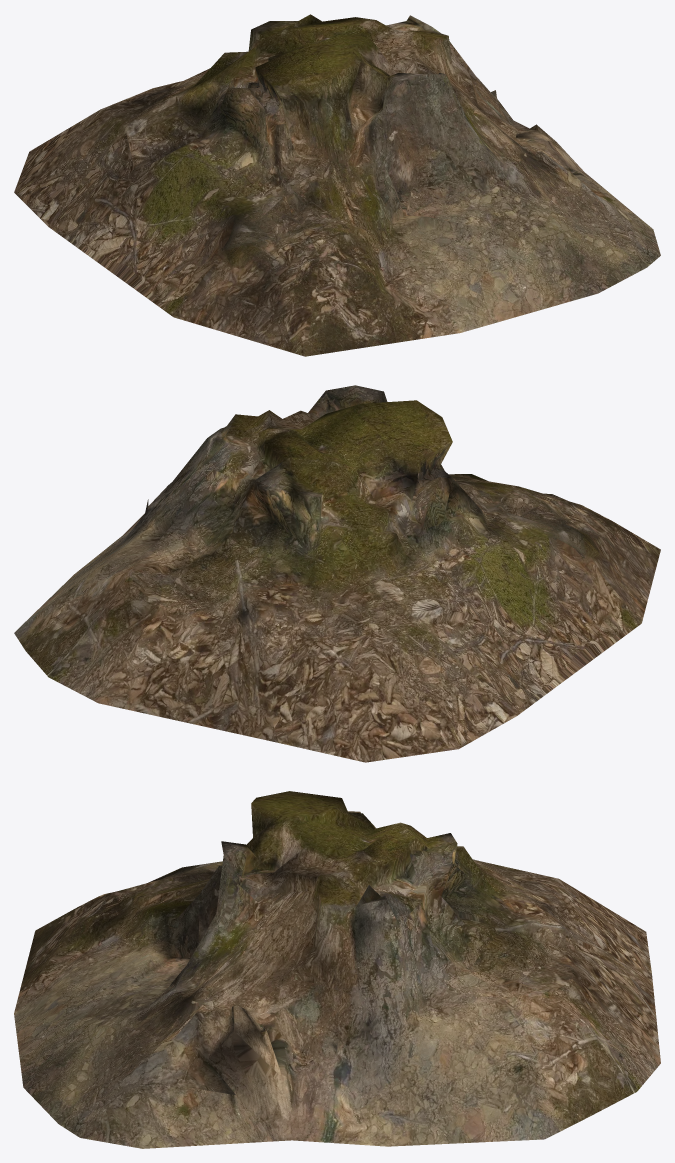
File: glb_stump.d06dd978.glb
3 views of the same model, one above another, from view 1: azimuth 30°, elevation 25°; view 2: azimuth 150°, elevation 25°; view 3: azimuth 270°, elevation 25° (orthographic). The views are drawn at different scales.
Parts seen in each view (by area): view 1: tree_stump_01; view 2: tree_stump_01; view 3: tree_stump_01.
Boxes of the visible parts, bbox=[...] form: tree_stump_01: bbox=[14, 14, 660, 356]; tree_stump_01: bbox=[14, 385, 660, 762]; tree_stump_01: bbox=[14, 791, 660, 1148].
Size of the model in its own units: 1.42 by 0.5621 by 1.59.
Materials: 1 (1 with a texture image).
